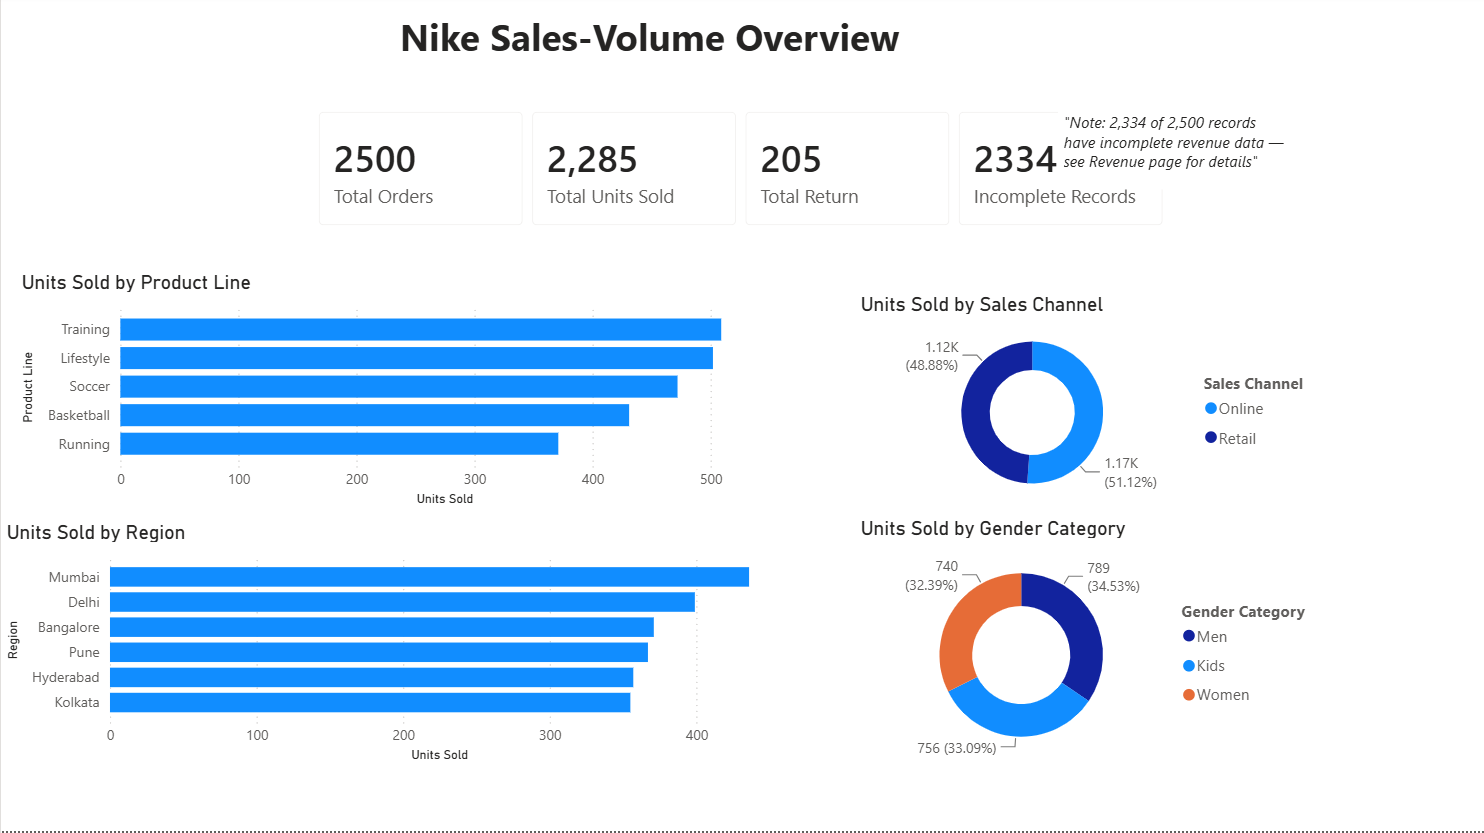

Layout of this report page (visuals, bound fields, positions):
{"tool":"powerbi","page":{"name":"Volume Overview","canvas":[1280,720],"ordinal":0},"visuals":[{"type":"cardVisual","fields":{"Data":["CountNonNull(nike_sales_db nike_sales_clean.Order_ID)","Sum(nike_sales_db nike_sales_clean.Units_Sold)","Sum(nike_sales_db nike_sales_clean.Is_Return)","Sum(nike_sales_db nike_sales_clean.Is_Incomplete)"]},"box":[257,82.8,765.1,132.8],"z":0},{"type":"clusteredBarChart","fields":{"Category":["nike_sales_db nike_sales_clean.Product_Line"],"Y":["Sum(nike_sales_db nike_sales_clean.Units_Sold)"]},"box":[12.9,236.3,665,207.9],"z":1000},{"type":"clusteredBarChart","fields":{"Category":["nike_sales_db nike_sales_clean.Region"],"Y":["Sum(nike_sales_db nike_sales_clean.Units_Sold)"]},"box":[0,452,678,213],"z":2000},{"type":"donutChart","fields":{"Category":["nike_sales_db nike_sales_clean.Gender_Category"],"Y":["Sum(nike_sales_db nike_sales_clean.Units_Sold)"]},"box":[736.6,448.5,409.7,220.8],"z":3000},{"type":"donutChart","fields":{"Category":["nike_sales_db nike_sales_clean.Sales_Channel"],"Y":["Sum(nike_sales_db nike_sales_clean.Units_Sold)"]},"box":[736.6,255.3,409.7,188.9],"z":4000},{"type":"textbox","box":[1070,7.5,210,150],"z":5000},{"type":"textbox","box":[339,7.8,452.8,75],"z":6000},{"type":"textbox","box":[911.7,94.9,203.6,71.6],"z":7000}]}

Visuals, with their boxes in screenshot pixels (x1, y1, x2, y2), scaled from the page's 1280x720 canvas onto the 1484x833 screenshot:
cardVisual - CountNonNull(nike_sales_db nike_sales_clean.Order_ID) x Sum(nike_sales_db nike_sales_clean.Units_Sold): region(298, 96, 1185, 249)
clusteredBarChart - nike_sales_db nike_sales_clean.Product_Line x Sum(nike_sales_db nike_sales_clean.Units_Sold): region(15, 273, 786, 514)
clusteredBarChart - nike_sales_db nike_sales_clean.Region x Sum(nike_sales_db nike_sales_clean.Units_Sold): region(0, 523, 786, 769)
donutChart - nike_sales_db nike_sales_clean.Gender_Category x Sum(nike_sales_db nike_sales_clean.Units_Sold): region(854, 519, 1329, 774)
donutChart - nike_sales_db nike_sales_clean.Sales_Channel x Sum(nike_sales_db nike_sales_clean.Units_Sold): region(854, 295, 1329, 514)
textbox: region(1241, 9, 1483, 182)
textbox: region(393, 9, 918, 96)
textbox: region(1057, 110, 1293, 193)
